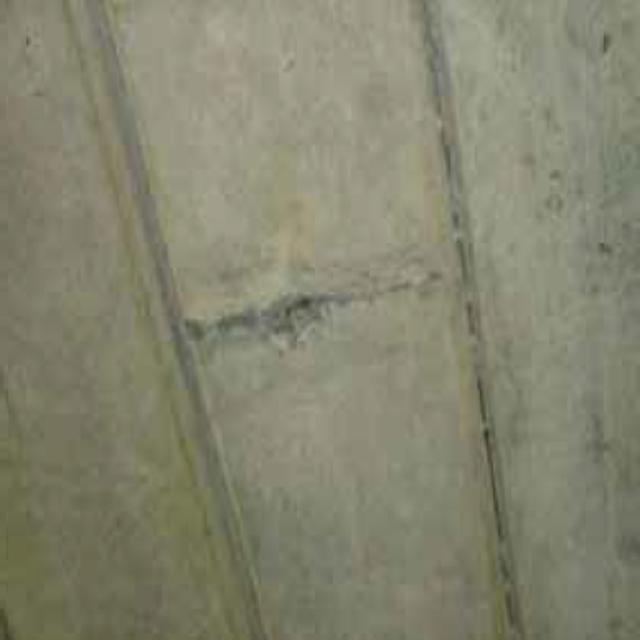spalling: (150, 257, 449, 352)
